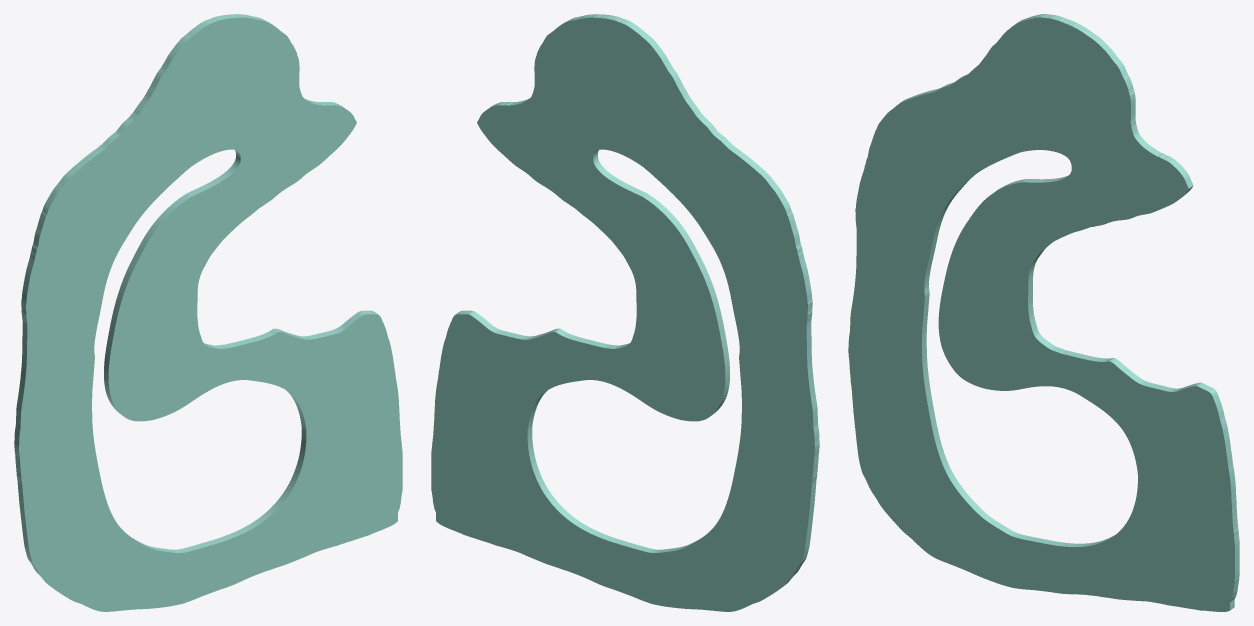
File: Inner_Blue.gltf
3 renders of one model, left to right at view 1: azimuth 30°, elevation 25°; view 2: azimuth 150°, elevation 25°; view 3: azimuth 330°, elevation 25°, orthographic.
Size of the model in its own units: 0.9466 by 1.35 by 0.02.
